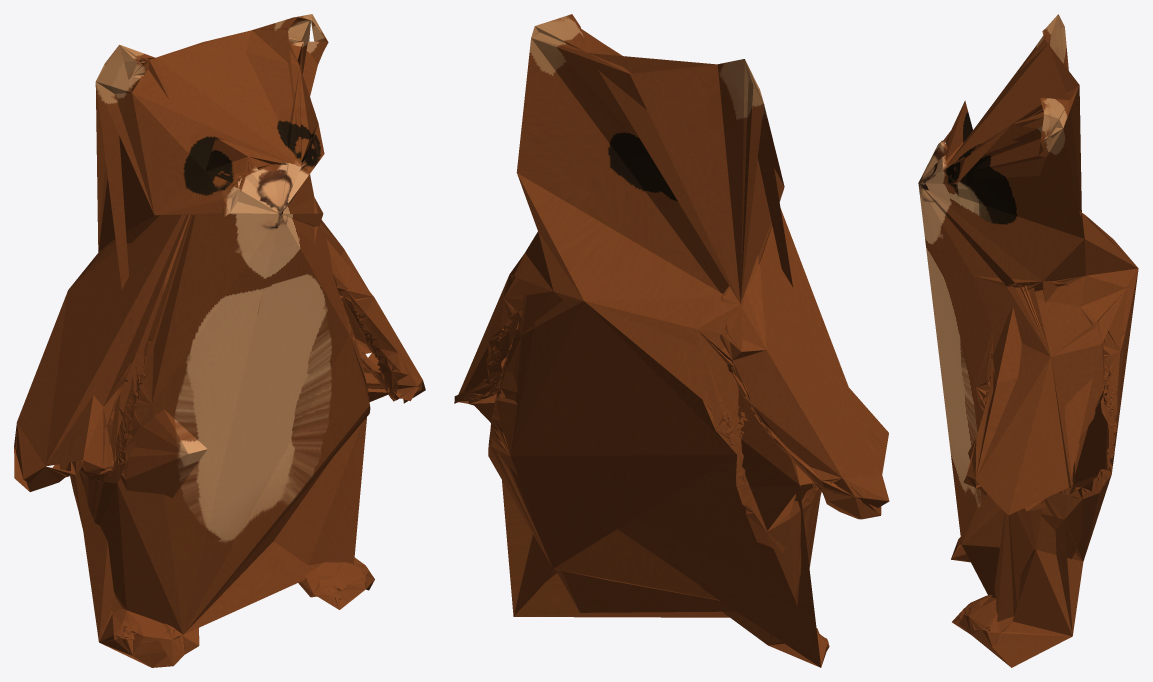
3 views of the same model, side by side, from view 1: azimuth 30°, elevation 25°; view 2: azimuth 150°, elevation 25°; view 3: azimuth 270°, elevation 25° (orthographic). The views are drawn at different scales.
Bounding box in the file's own units: 0.6802 × 0.9612 × 0.3482.
Materials: 1 (1 with a texture image).
